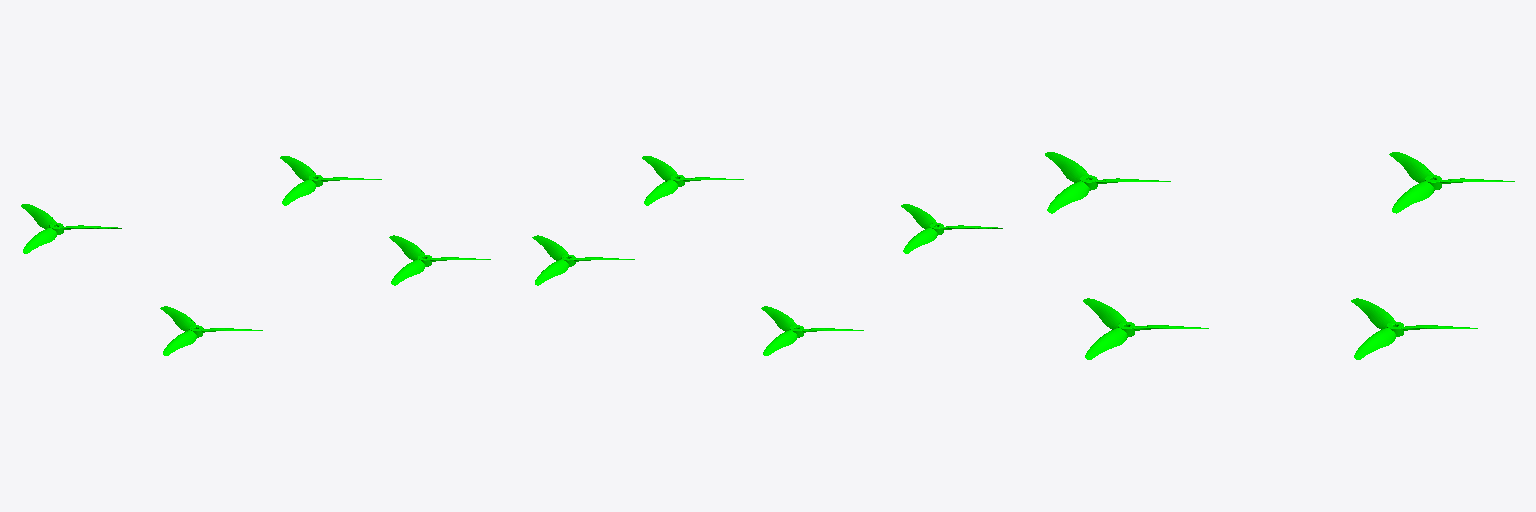
robot.urdf — a2r_drone:
<?xml version="1.0"?>
<robot name="a2r_drone">


  <!-- <properties arm="0.185" kf="8.47e-9" km="2.13e-11" thrust2weight="4.17" max_speed_kmh="200" gnd_eff_coeff="11.36859" prop_radius="6.7e-2" drag_coeff_xy="9.1785e-7" drag_coeff_z="10.311e-7" dw_coeff_1="2267.18" dw_coeff_2=".16" dw_coeff_3="-.11" /> -->
  
  <link name="body">
    <inertial>
      <origin xyz="0 0 0" rpy="0 0 0"/>
      <mass value="0.870"/>
      <inertia ixx="0.008951" ixy="0.0" ixz="0.0" iyy="0.003102" iyz="0.0" izz="0.01161"/>
    </inertial>
    <visual>
      <origin xyz="0 0 0" rpy="0 0 0"/>
      <geometry>
        <mesh filename="../meshes/Drone.obj" scale="1 1 1"/>
      </geometry>
      <material name="drone_material">
        <color rgba="0.0 0.0 1.0 1"/>
      </material>
    </visual>
    <collision>
      <origin xyz="0 0 0" rpy="0 0 0"/>
      <geometry>
        <mesh filename="../meshes/Drone.obj" scale="1 1 1"/>
      </geometry>
    </collision>
  </link>


  <link name="prop1">
    <inertial>
      <origin xyz="0 0 0" rpy="0 0 0"/>
      <mass value="0.001"/>
      <inertia ixx="1e-6" ixy="0.0" ixz="0.0" iyy="1e-6" iyz="0.0" izz="1e-6"/>
    </inertial>
    <visual>
      <!-- <origin xyz="-0.122 -0.1343 0.013" rpy="0 0 0"/> -->
      <geometry>
        <mesh filename="../meshes/propeller.obj" scale="1 1 1"/>
      </geometry>
      <material name="propeller_material">
        <color rgba="0.0 1 0.0 1"/>
      </material>
    </visual>
    <!-- <collision>
      <origin xyz="-0.122 -0.1343 0.013" rpy="0 0 0"/>
      <geometry>
        <mesh filename="../meshes/propeller.obj" scale="1 1 1"/>
      </geometry>
    </collision> -->
  </link>
  
  
  <link name="prop2">
    <inertial>
      <origin xyz="0 0 0" rpy="0 0 0"/>
      <mass value="0.001"/>
      <inertia ixx="1e-6" ixy="0.0" ixz="0.0" iyy="1e-6" iyz="0.0" izz="1e-6"/>
    </inertial>
    <visual>
      <!-- <origin xyz="0.1482504096571687 -0.1047432515919767 0.013" rpy="0 0 0"/> -->
      <geometry>
        <mesh filename="../meshes/propeller.obj" scale="1 1 1"/>
      </geometry>
      <material name="propeller_material">
        <color rgba="0.0 1 0.0 1"/>
      </material>
    </visual>
  </link>
  

  <link name="prop3">
    <inertial>
      <origin xyz="0 0 0" rpy="0 0 0"/>
      <mass value="0.001"/>
      <inertia ixx="1e-6" ixy="0.0" ixz="0.0" iyy="1e-6" iyz="0.0" izz="1e-6"/>
    </inertial>
    <visual>
      <!-- <origin xyz="-0.122 0.1343 0.013" rpy="0 0 0"/> -->
      <geometry>
        <mesh filename="../meshes/propeller.obj" scale="1 1 1"/>
      </geometry>
      <material name="propeller_material">
        <color rgba="0.0 1 0.0 1"/>
      </material>
    </visual>
  </link>


  <link name="prop4">
    <inertial>
      <origin xyz="0 0 0" rpy="0 0 0"/>
      <mass value="0.001"/>
      <inertia ixx="1e-6" ixy="0.0" ixz="0.0" iyy="1e-6" iyz="0.0" izz="1e-6"/>
    </inertial>
    <visual>
      <!-- <origin xyz="0.1482504096571687 0.1047432515919767 0.013" rpy="0 0 0"/> -->
      <geometry>
        <mesh filename="../meshes/propeller.obj" scale="1 1 1"/>
      </geometry>
      <material name="propeller_material">
        <color rgba="0.0 1 0.0 1"/>
      </material>
    </visual>
  </link>

  <joint name="m1_joint" type="revolute">
    <parent link="body"/>
    <child link="prop1"/>
    <origin xyz="-0.122 -0.1343 0.013" rpy="0 0 0"/>
    <axis xyz="0 0 1"/>
    <limit lower="-3.14159" upper="3.14159" effort="1000" velocity="1000"/>
    <dynamics damping="0.0" friction="0.0"/>
  </joint> <!--ccw-->


  <joint name="m2_joint" type="revolute">
    <parent link="body"/>
    <child link="prop2"/>
    <origin xyz="0.1482504096571687 -0.1047432515919767 0.013" rpy="0 0 0"/>
    <axis xyz="0 0 1"/>
    <limit lower="-3.14159" upper="3.14159" effort="1000" velocity="1000"/>
    <dynamics damping="0.0" friction="0.0"/>
  </joint> <!--cw-->

  <joint name="m3_joint" type="revolute">
    <parent link="body"/>
    <child link="prop3"/>
    <origin xyz="-0.122 0.1343 0.013" rpy="0 0 0"/>
    <axis xyz="0 0 1"/>
    <limit lower="-3.14159" upper="3.14159" effort="1000" velocity="1000"/>
    <dynamics damping="0.0" friction="0.0"/>
  </joint> <!--cw-->

  <joint name="m4_joint" type="revolute">
    <parent link="body"/>
    <child link="prop4"/>
    <origin xyz="0.1482504096571687 0.1047432515919767 0.013" rpy="0 0 0"/>
    <axis xyz="0 0 1"/>
    <limit lower="-3.14159" upper="3.14159" effort="1000" velocity="1000"/>
    <dynamics damping="0.0" friction="0.0"/>
  </joint> <!--ccw-->





</robot>

--- Render facts (derived) ---
3 views of the same robot in one strip: view 1: azimuth 30°, elevation 25°; view 2: azimuth 150°, elevation 25°; view 3: azimuth 270°, elevation 25° (orthographic).
Robot: a2r_drone — 5 links, 4 joints (4 revolute); root link body; default pose: all joints at 0.
Visible links, largest first — view 1: prop3, prop1, prop2, prop4; view 2: prop1, prop3, prop4, prop2; view 3: prop2, prop4, prop1, prop3.
Link boxes in pixels (left/top/right/bottom): prop3: left=21, top=204, right=121, bottom=253; prop1: left=160, top=306, right=262, bottom=355; prop2: left=389, top=235, right=490, bottom=285; prop4: left=280, top=156, right=381, bottom=205; prop1: left=901, top=204, right=1002, bottom=253; prop3: left=761, top=306, right=863, bottom=355; prop4: left=532, top=235, right=634, bottom=285; prop2: left=642, top=156, right=743, bottom=205; prop2: left=1083, top=298, right=1208, bottom=359; prop4: left=1351, top=298, right=1477, bottom=359; prop1: left=1045, top=152, right=1170, bottom=213; prop3: left=1389, top=152, right=1514, bottom=213.
Size in the robot's own frame: 0.382 by 0.3671 by 0.0082 metres.
Meshes: 2 distinct files referenced, 4 mesh visuals loaded (1 OBJ); not drawn: 1 (reference not matched to a file when rendering).
